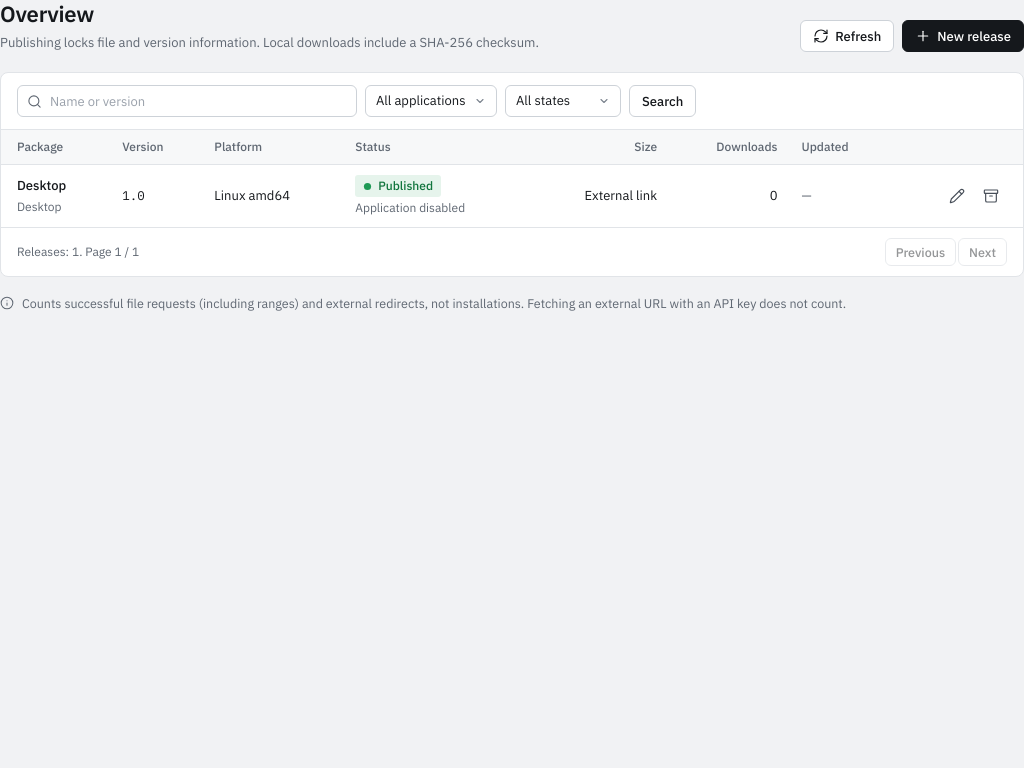
Test: locks published package identity while allowing notes to change
This screenshot has width=1024, height=768.
Click the button named "Edit Desktop 1.0": click(957, 196) [941,180,973,212]
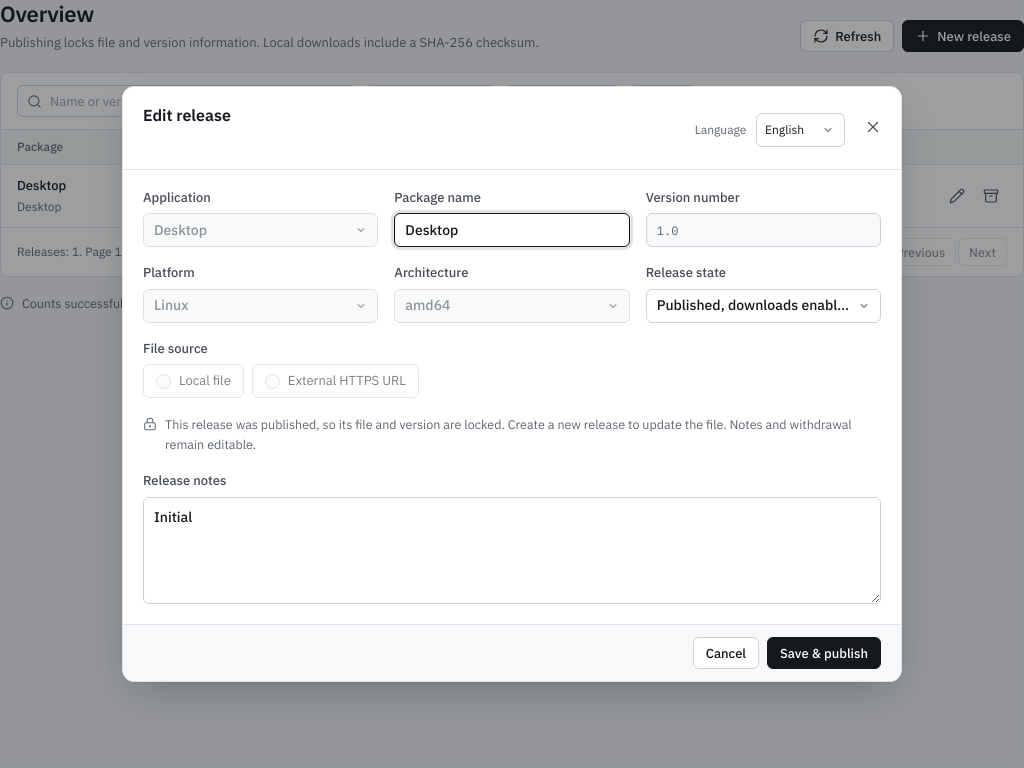
Expected: the dropdown labelled "Application" is disabled, [143,213,378,247]
Expected: the field labelled "Version number" is disabled, [646,213,881,247]
Expected: the dropdown labelled "Platform" is disabled, [143,289,378,323]
